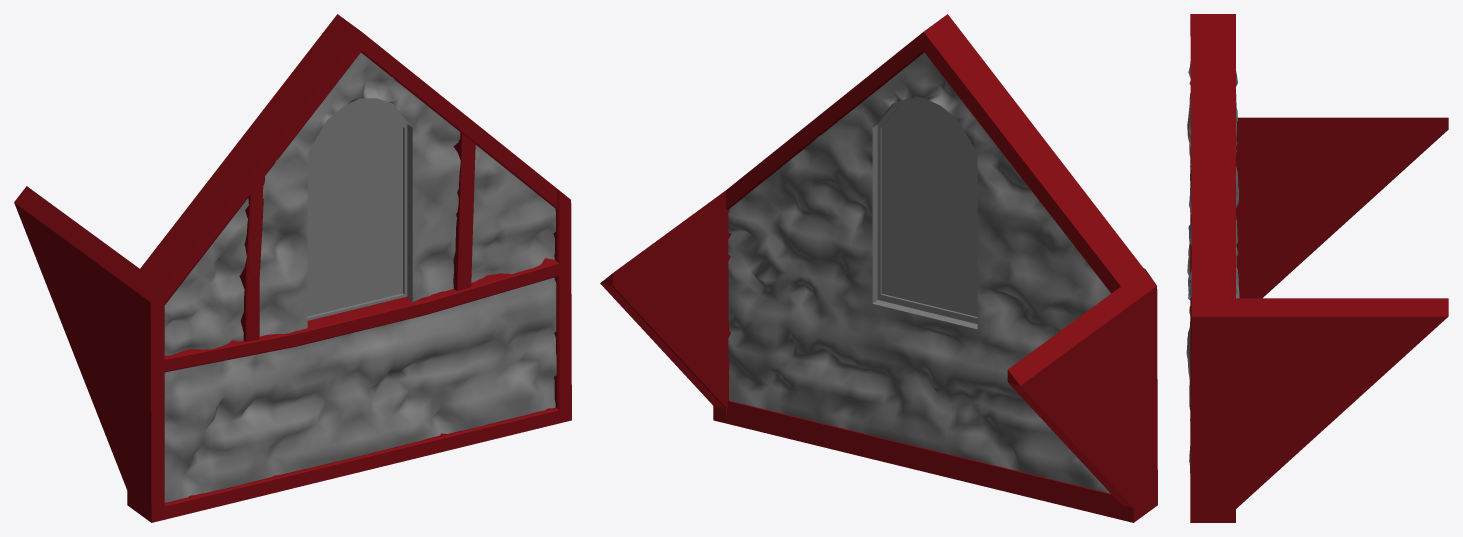
Rendered from SM_MH_01_Stone_Wall_Skylight_Window_02.fbx.
3 renders of one model, left to right at view 1: azimuth 30°, elevation 25°; view 2: azimuth 150°, elevation 25°; view 3: azimuth 270°, elevation 25°, orthographic. The views are drawn at different scales.
Visible parts, largest first — view 1: SM_MH_01_Stone_Wall_Skylight_Window_02_LOD0, SM_MH_01_Stone_Wall_Skylight_Window_02W_LOD0; view 2: SM_MH_01_Stone_Wall_Skylight_Window_02_LOD0, SM_MH_01_Stone_Wall_Skylight_Window_02W_LOD0; view 3: SM_MH_01_Stone_Wall_Skylight_Window_02_LOD0.
Part boxes in pixels (x1,y1,x2,y2): SM_MH_01_Stone_Wall_Skylight_Window_02_LOD0: [14, 14, 571, 522]; SM_MH_01_Stone_Wall_Skylight_Window_02W_LOD0: [307, 100, 402, 316]; SM_MH_01_Stone_Wall_Skylight_Window_02_LOD0: [600, 14, 1157, 522]; SM_MH_01_Stone_Wall_Skylight_Window_02W_LOD0: [881, 100, 977, 316]; SM_MH_01_Stone_Wall_Skylight_Window_02_LOD0: [1186, 14, 1448, 522].
Size of what is drawn, in the model's own units: 300 by 300 by 173.
